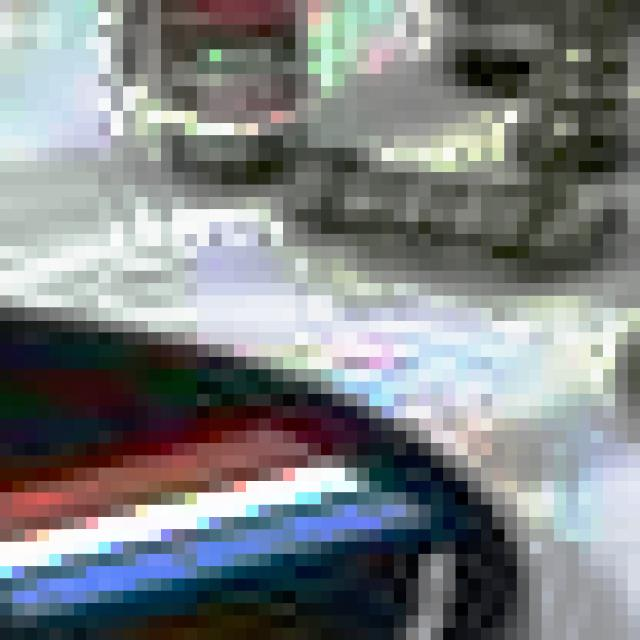arms: (271, 135, 640, 308), (98, 0, 320, 209), (504, 0, 640, 197), (382, 0, 603, 111), (615, 296, 640, 456)
